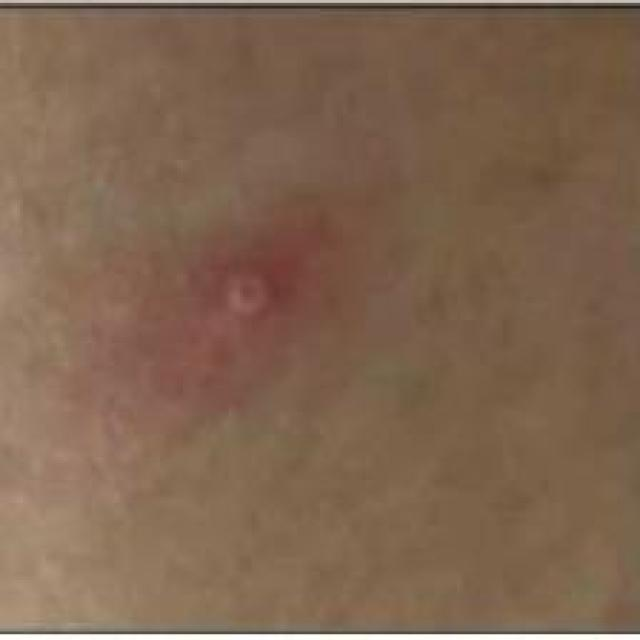monkeypox: (29, 124, 592, 566)
